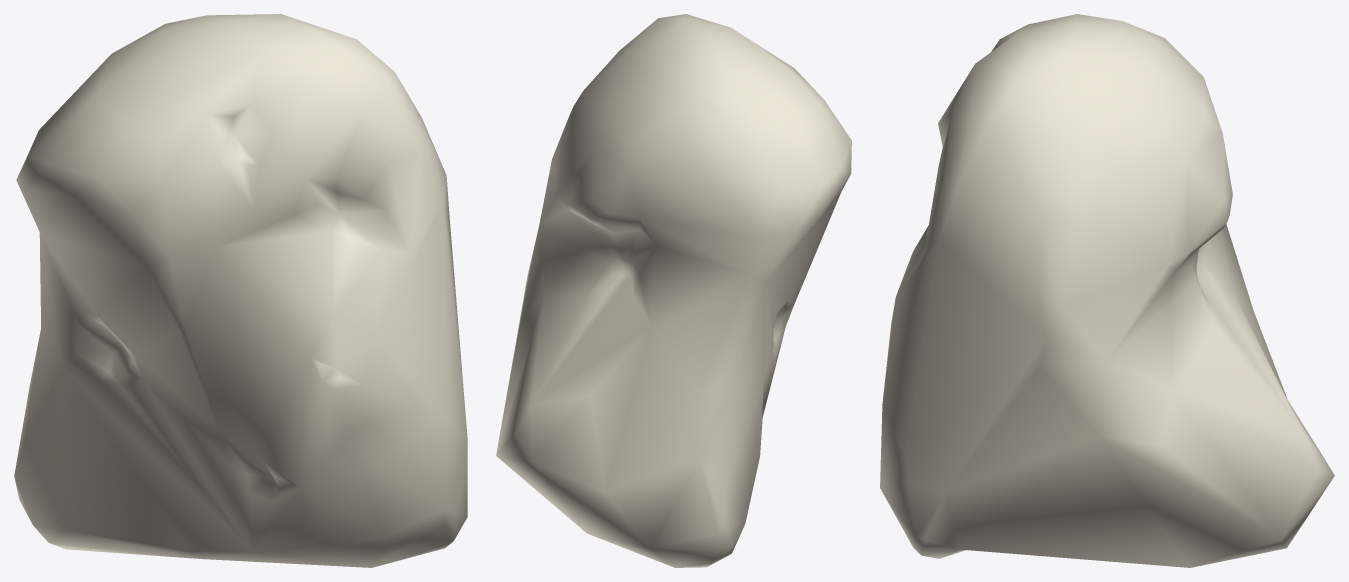
3 views of the same model, side by side, from view 1: azimuth 30°, elevation 25°; view 2: azimuth 150°, elevation 25°; view 3: azimuth 270°, elevation 25° (orthographic). The views are drawn at different scales.
Visible parts, largest first — view 1: ZA_4975bdbe8ca25cda; view 2: ZA_4975bdbe8ca25cda; view 3: ZA_4975bdbe8ca25cda.
Part boxes in pixels (box(x1,y1,x2,y2)): ZA_4975bdbe8ca25cda: box(14, 14, 467, 567); ZA_4975bdbe8ca25cda: box(496, 14, 851, 567); ZA_4975bdbe8ca25cda: box(880, 14, 1334, 567).
Size of the model in its own units: 0.0166 by 0.0234 by 0.018.
